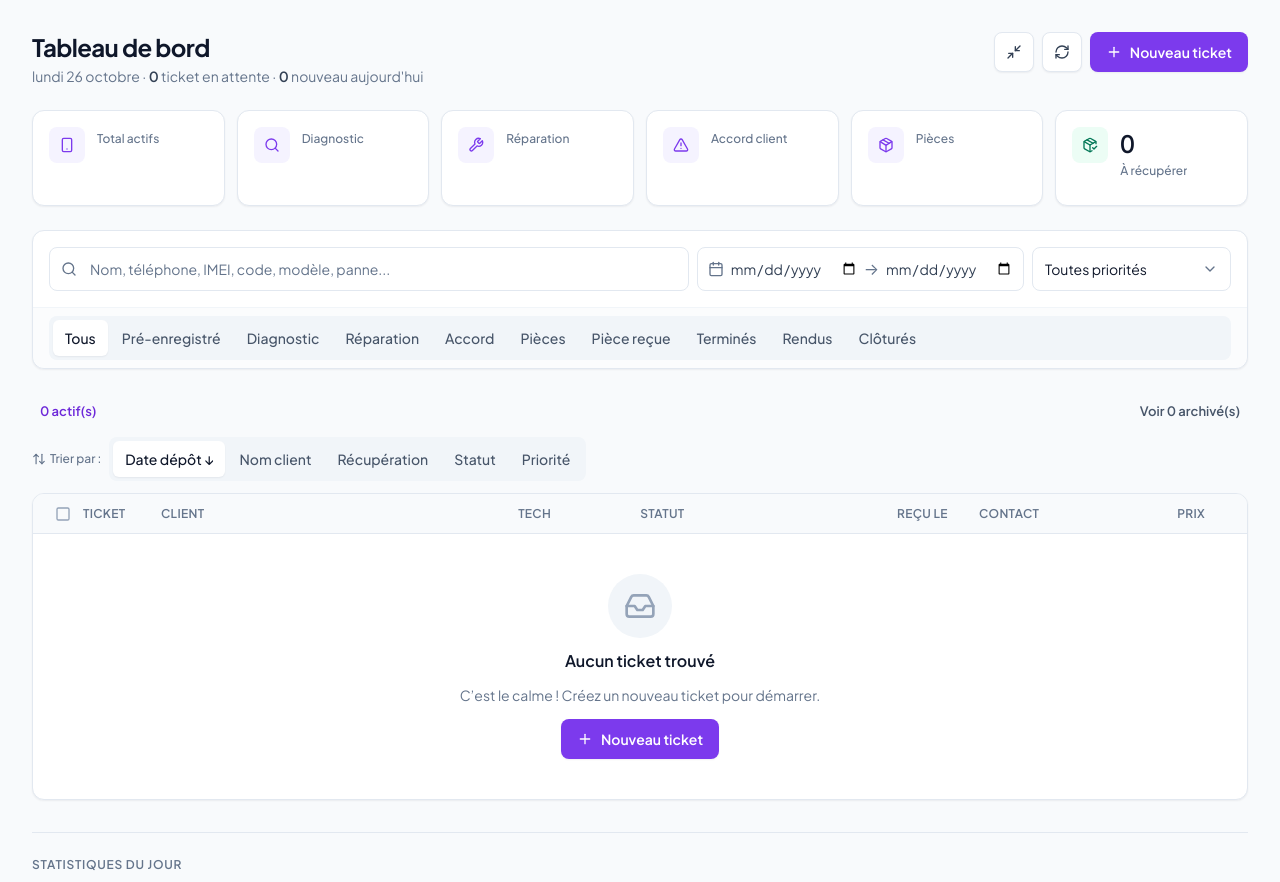
Test: DashboardPage : carte « À récupérer » › étagère vide : message explicite
The image size is (1280, 882).
Click the button "0 À récupérer" at coordinates (1152, 158), box x1=1055 y1=110 x2=1248 y2=206
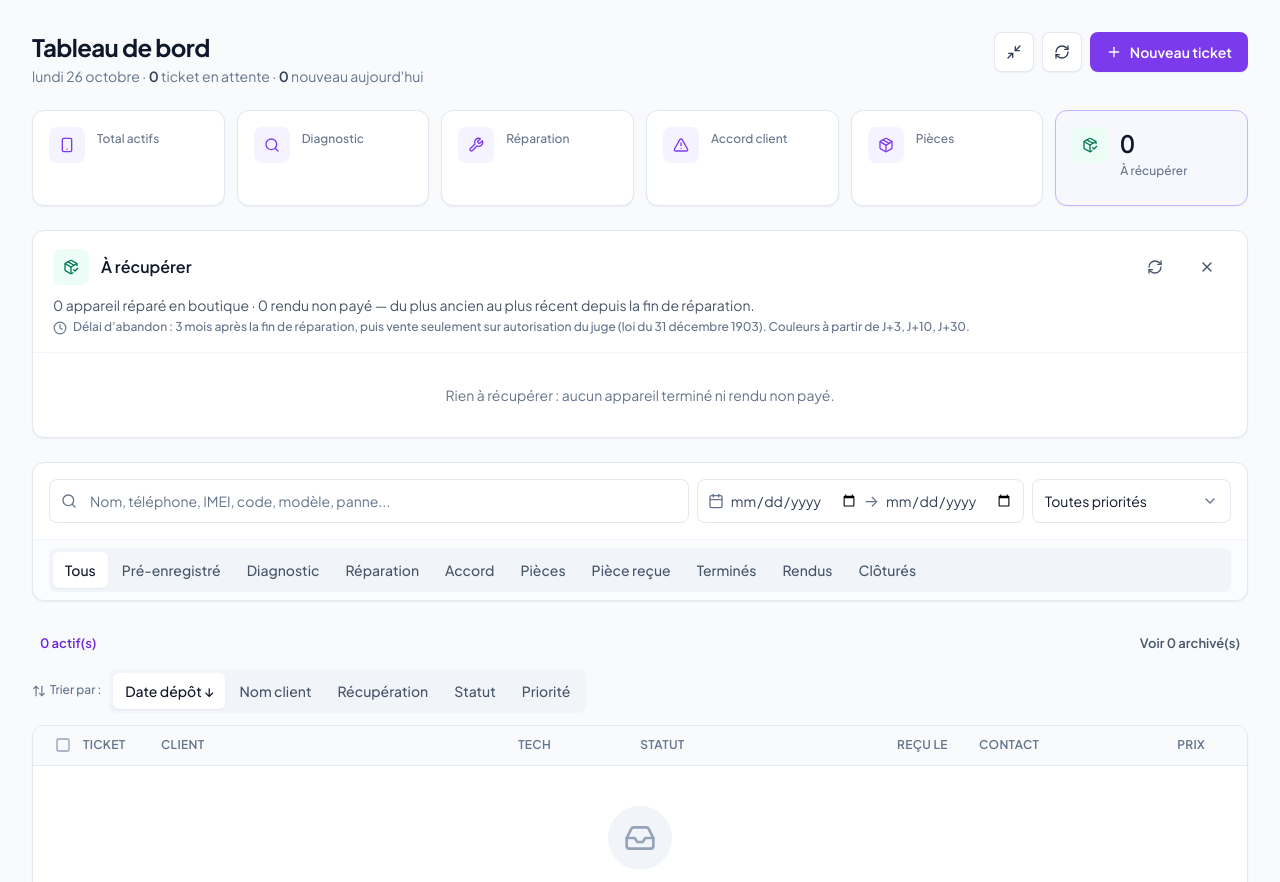
Expected: the text "Rien à récupérer : aucun appareil terminé ni rendu non payé." is shown, x1=446 y1=386 x2=834 y2=404
